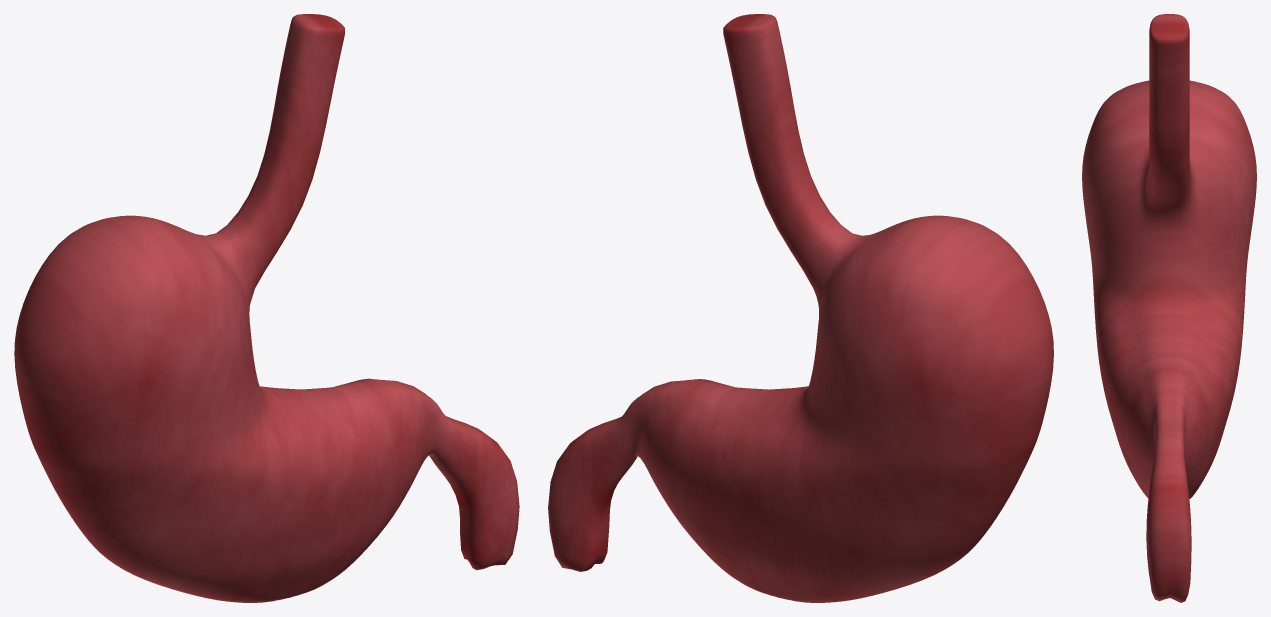
File: stomach.glb
The picture shows the model from 3 angles, left to right: view 1: azimuth 30°, elevation 25°; view 2: azimuth 150°, elevation 25°; view 3: azimuth 270°, elevation 25°; orthographic projection. The views are drawn at different scales.
Visible parts, largest first — view 1: Cylinder.005; view 2: Cylinder.005; view 3: Cylinder.005.
Part boxes in pixels (x1=…): Cylinder.005: x1=14, y1=14, x2=519, y2=602; Cylinder.005: x1=548, y1=14, x2=1053, y2=602; Cylinder.005: x1=1082, y1=14, x2=1256, y2=602.
Size of the model in its own units: 0.7156 by 0.8272 by 0.2589.
Materials: 1 (1 with a texture image).
